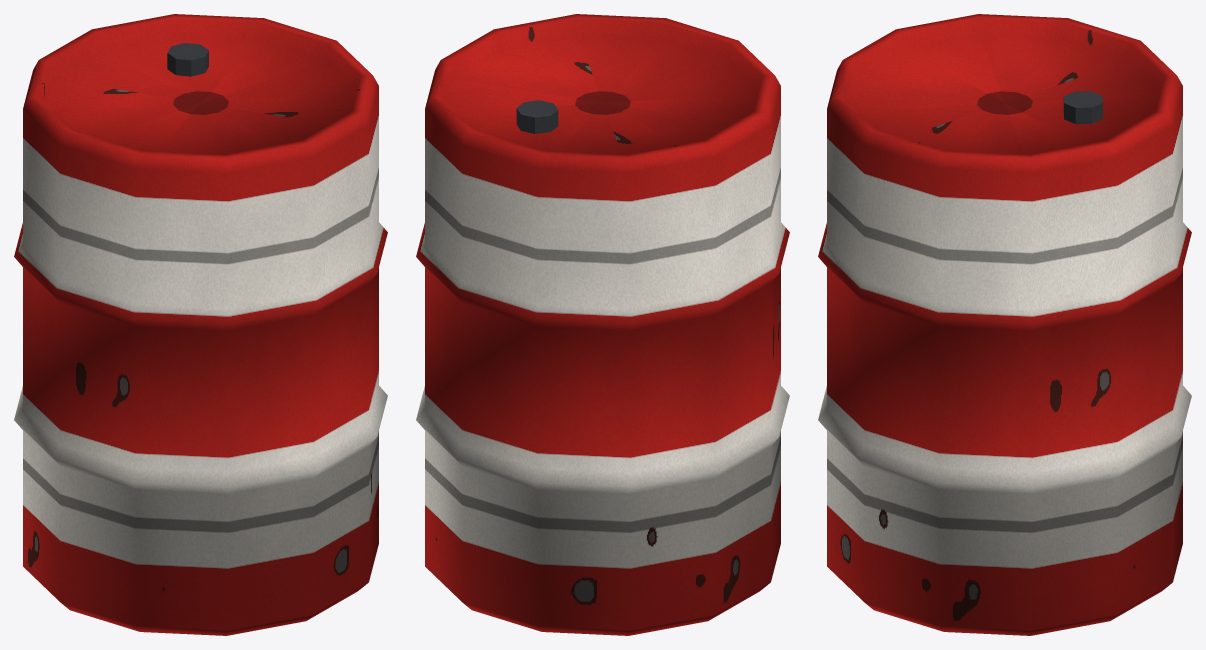
File: Prop_Barrel_Back.fbx
3 views of the same model, side by side, from view 1: azimuth 30°, elevation 25°; view 2: azimuth 150°, elevation 25°; view 3: azimuth 270°, elevation 25° (orthographic).
Parts seen in each view (by area): view 1: Prop_Barrel_Back; view 2: Prop_Barrel_Back; view 3: Prop_Barrel_Back.
Part boxes in pixels (x1=…): Prop_Barrel_Back: x1=14, y1=14, x2=387, y2=635; Prop_Barrel_Back: x1=416, y1=14, x2=789, y2=635; Prop_Barrel_Back: x1=818, y1=14, x2=1191, y2=635.
Bounding box in the file's own units: 0.6227 × 0.88 × 0.6227.
Materials: 2 (2 with a texture image).
